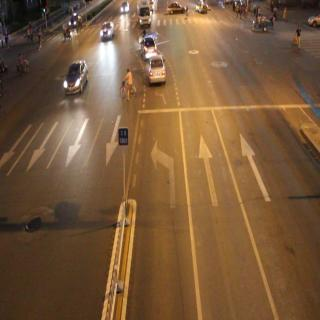BigCar: (138, 1, 151, 25)
Car: (62, 61, 88, 96), (146, 56, 167, 82), (139, 38, 158, 58), (99, 20, 114, 41), (167, 2, 186, 16), (69, 12, 82, 26), (196, 1, 208, 13)
